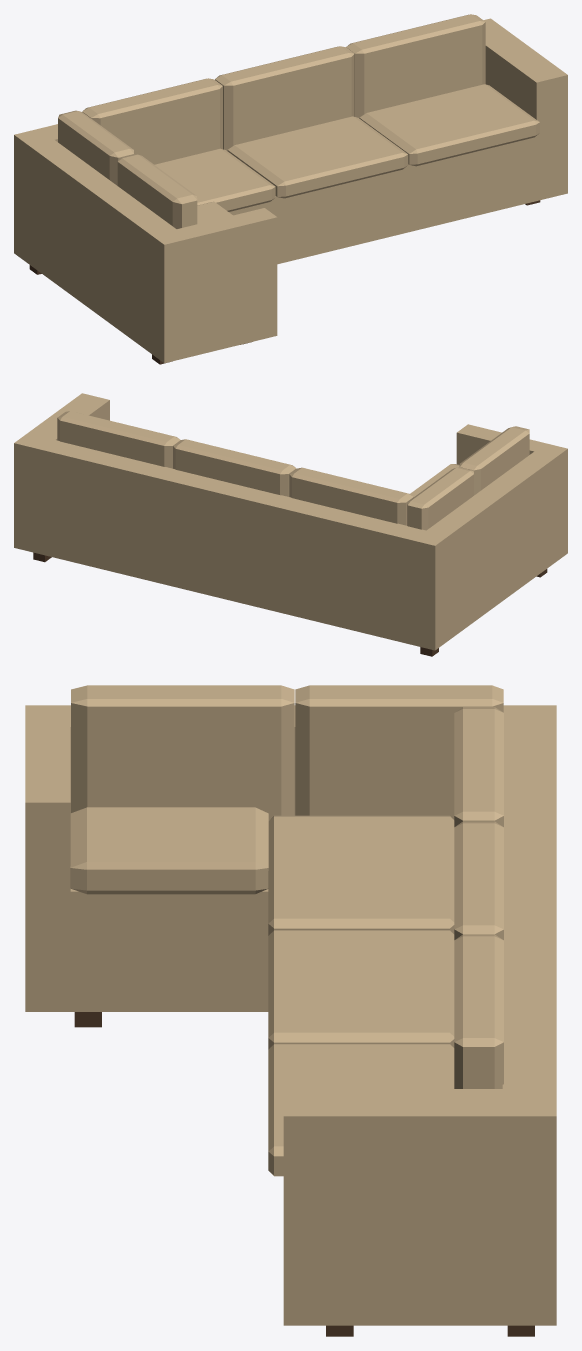
The model's file is Couch_2B.fbx.
3 renders of one model, top to bottom at view 1: azimuth 30°, elevation 25°; view 2: azimuth 150°, elevation 25°; view 3: azimuth 270°, elevation 25°, orthographic. The views are drawn at different scales.
Visible parts, largest first — view 1: polySurface2343; view 2: polySurface2343; view 3: polySurface2343.
Boxes of the visible parts, x1,y1,x2,y2 form: polySurface2343: (14, 14, 567, 364); polySurface2343: (14, 393, 567, 656); polySurface2343: (25, 685, 556, 1336).
Bounding box in the file's own units: 3.55 × 1.13 × 1.94.
Materials: 1 (1 with a texture image).
